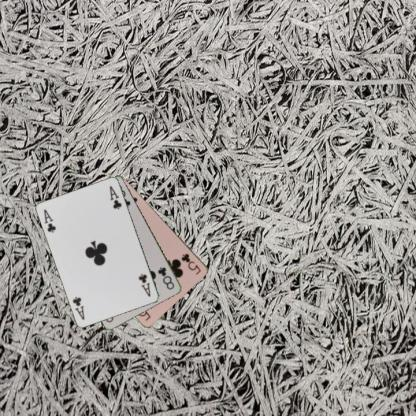5c: (179, 251, 202, 277)
8c: (155, 264, 176, 290)
Ac: (136, 271, 152, 298), (42, 207, 57, 234)
